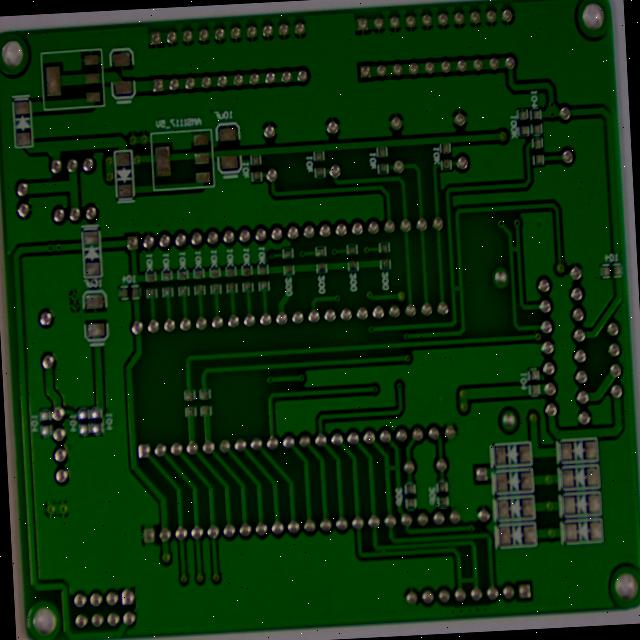short: (506, 556, 536, 580), (424, 417, 447, 444), (498, 201, 517, 227), (416, 520, 436, 543), (562, 157, 582, 180)
